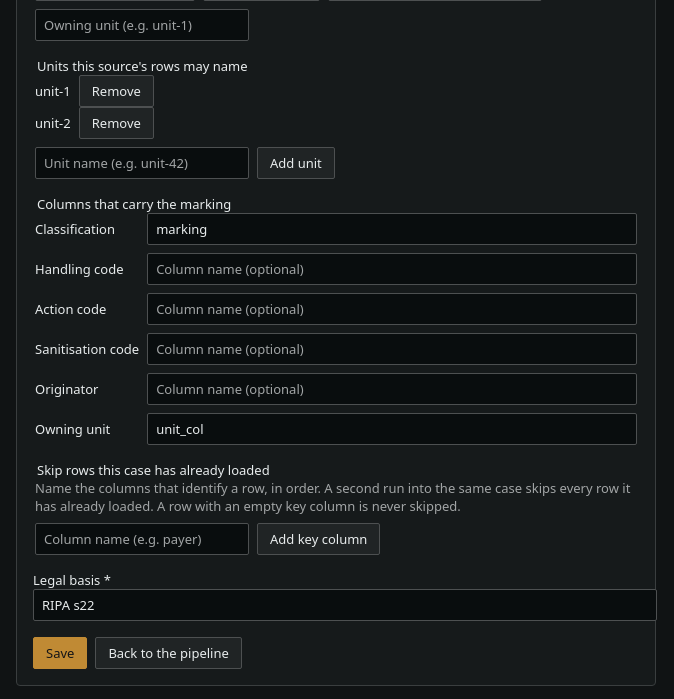
Test: Connect: the server's 422 cause is shown as it gave it › shows a source_declarations_invalid detail verbatim
(page scrolled)
Expected: the text "unit-1" is shown, [35,82,71,100]
Click the button "Save": (60, 652) [33,636,87,668]
(page scrolled)
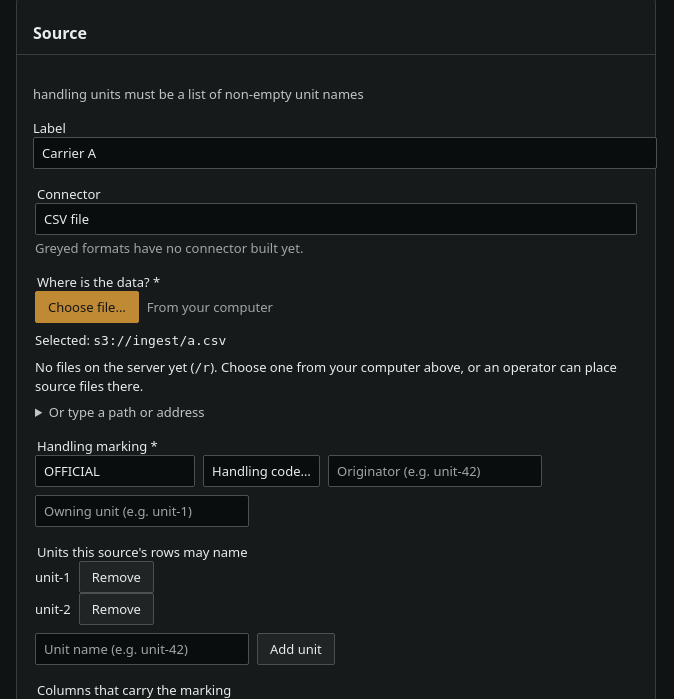
Now the message reads "handling units must be a list of non-empty unit names", box [33,84,364,102]
